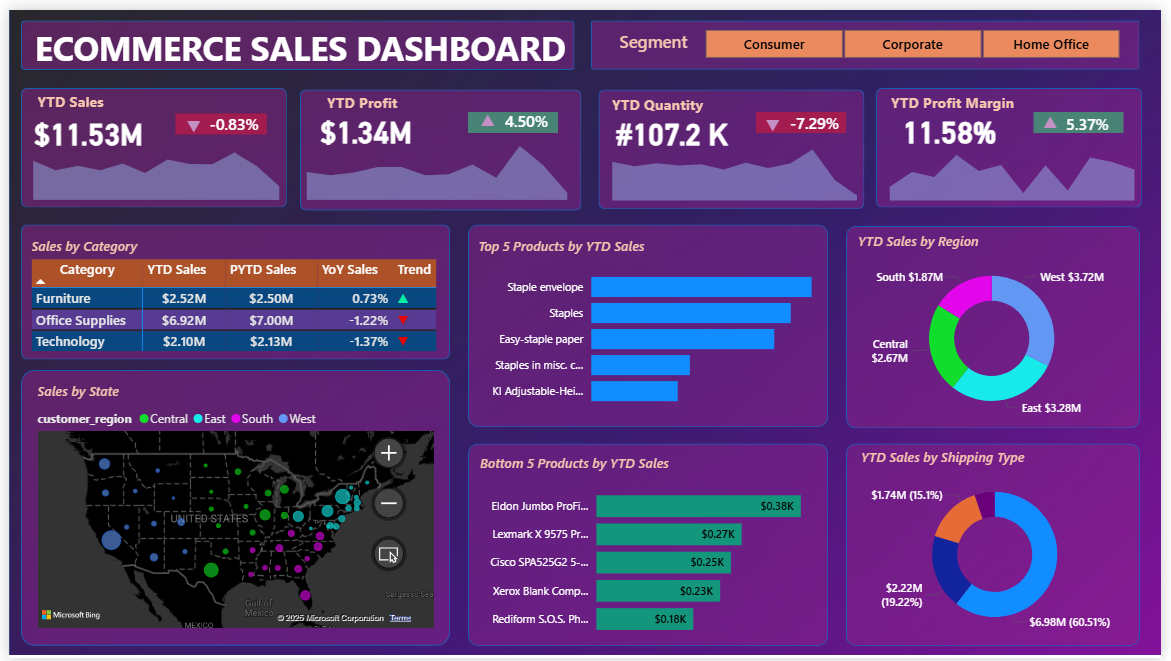

The dashboard page shown, as its layout file describes it:
{"tool":"powerbi","page":{"name":"Page 1","canvas":[1280,720],"ordinal":0},"visuals":[{"type":"shape","box":[184.4,115.7,101.6,23.4],"z":0},{"type":"card","fields":{"Values":["ecommerce_data.Sales Icon"]},"box":[123.5,106.3,162.6,46.9],"z":1000},{"type":"shape","box":[14.1,10.9,615,55],"z":2000},{"type":"textbox","box":[14.1,10.9,704.9,98.5],"z":3000},{"type":"shape","box":[14.1,86,295.4,132.9],"z":4000},{"type":"shape","box":[14.1,239.1,476.7,150],"z":5000},{"type":"card","fields":{"Values":["ecommerce_data.YTD Sales"]},"box":[6.3,111,162.6,46.9],"z":6000},{"type":"areaChart","fields":{"Category":["Calendar.Month"],"Y":["Sum(ecommerce_data.sales_per_order)"]},"box":[10.9,134.4,303.2,81.3],"z":7000},{"type":"shape","box":[647.1,10.9,609.6,54.7],"z":8000},{"type":"card","fields":{"Values":["ecommerce_data.YoY Sales"]},"box":[168.8,104.7,162.6,46.9],"z":9000},{"type":"textbox","box":[26.5,85,109.6,35.9],"z":10000},{"type":"shape","box":[509.5,112.5,100,23.4],"z":11000},{"type":"card","fields":{"Values":["ecommerce_data.Profit Icon"]},"box":[450.1,100,162.6,48.5],"z":12000},{"type":"shape","box":[323.5,87.5,312.6,134.4],"z":13000},{"type":"card","fields":{"Values":["ecommerce_data.YTD Profit"]},"box":[315.7,109.4,162.6,46.9],"z":14000},{"type":"areaChart","fields":{"Category":["Calendar.Month"],"Y":["Sum(ecommerce_data.profit_per_order)"]},"box":[315.7,134.4,320.4,81.3],"z":15000},{"type":"textbox","box":[347.6,86.2,109.6,35.9],"z":16000},{"type":"card","fields":{"Values":["ecommerce_data.YoY Profit"]},"box":[490.8,93.8,168.8,64.1],"z":17000},{"type":"shape","box":[829.9,114.1,100,23.4],"z":18000},{"type":"card","fields":{"Values":["ecommerce_data.Qty Icon"]},"box":[767.4,104.7,162.6,48.5],"z":19000},{"type":"shape","box":[654.9,87.5,295.4,132.9],"z":20000},{"type":"card","fields":{"Values":["ecommerce_data.YTD Concatenated QTY"]},"box":[654.9,111,162.6,46.9],"z":21000},{"type":"areaChart","fields":{"Category":["Calendar.Month"],"Y":["Sum(ecommerce_data.order_quantity)"]},"box":[654.9,139.1,301.7,78.1],"z":22000},{"type":"textbox","box":[665.8,87.5,123.5,35.9],"z":23000},{"type":"card","fields":{"Values":["ecommerce_data.YoY Qty"]},"box":[812.8,104.7,162.6,45.3],"z":24000},{"type":"shape","box":[1138,113.7,100,23.4],"z":25000},{"type":"card","fields":{"Values":["ecommerce_data.Profit Margin Icon"]},"box":[1075.3,101.6,162.6,48.5],"z":26000},{"type":"shape","box":[962.8,86,295.4,132.9],"z":27000},{"type":"card","fields":{"Values":["ecommerce_data.YTD Profit Margin"]},"box":[962.3,109.9,165.7,46.9],"z":28000},{"type":"areaChart","fields":{"Category":["Calendar.Month"],"Y":["ecommerce_data.Profit Margin"]},"box":[962.8,139.1,301.7,78.1],"z":29000},{"type":"textbox","box":[975.3,86,164.1,37.5],"z":30000},{"type":"card","fields":{"Values":["ecommerce_data.YoY Profit Margin"]},"box":[1114.4,104.7,165.7,46.9],"z":31000},{"type":"shape","box":[14.1,400.1,476.7,306.3],"z":32000},{"type":"pivotTable","title":"Sales by Category","fields":{"Rows":["ecommerce_data.category_name"],"Values":["ecommerce_data.YTD Sales","ecommerce_data.PYTD Sales","ecommerce_data.YoY Sales","ecommerce_data.Sales Icon"]},"box":[20.3,251.6,465.8,148.5],"z":33000},{"type":"shape","box":[929.8,240,326.9,224.9],"z":34000},{"type":"map","title":"Sales by State","fields":{"X":["us_state_long_lat_codes.longitude"],"Y":["us_state_long_lat_codes.latitude"],"Size":["ecommerce_data.YTD Sales"],"Series":["ecommerce_data.customer_region"]},"box":[26.6,412.6,450.1,278.2],"z":35000},{"type":"shape","box":[509.5,239.1,400.1,225.1],"z":36000},{"type":"shape","box":[509.5,481.4,400.1,225.1],"z":37000},{"type":"barChart","title":"Top 5 Products by YTD Sales","fields":{"Category":["ecommerce_data.product_name"],"Y":["ecommerce_data.YTD Sales"]},"box":[517.3,251.6,392.3,200.1],"z":38000},{"type":"barChart","title":"Bottom 5 Products by YTD Sales","fields":{"Category":["ecommerce_data.product_name"],"Y":["ecommerce_data.YTD Sales"]},"box":[517.8,493.2,406.3,213.5],"z":39000},{"type":"shape","box":[930,481.4,326.7,225.1],"z":40000},{"type":"donutChart","title":"YTD Sales by Region","fields":{"Category":["ecommerce_data.customer_region"],"Y":["ecommerce_data.YTD Sales"]},"box":[937.8,247,306.3,215.7],"z":41000},{"type":"donutChart","title":"YTD Sales by Shipping Type","fields":{"Y":["ecommerce_data.YTD Sales"],"Category":["ecommerce_data.shipping_type"]},"box":[940.9,486.1,306.3,215.7],"z":42000},{"type":"slicer","fields":{"Values":["ecommerce_data.customer_segment"]},"box":[748.7,15.6,509.5,45.3],"z":43000},{"type":"textbox","box":[673.6,17.2,186,43.8],"z":44000}]}

Visuals, with their boxes in screenshot pixels (x1, y1, x2, y2), scaled from the page's 1280x720 canvas onto the 1171x661 screenshot:
shape: rect(169, 106, 262, 128)
card - ecommerce_data.Sales Icon: rect(113, 98, 262, 141)
shape: rect(13, 10, 576, 60)
textbox: rect(13, 10, 658, 100)
shape: rect(13, 79, 283, 201)
shape: rect(13, 220, 449, 357)
card - ecommerce_data.YTD Sales: rect(6, 102, 155, 145)
areaChart - Calendar.Month x Sum(ecommerce_data.sales_per_order): rect(10, 123, 287, 198)
shape: rect(592, 10, 1150, 60)
card - ecommerce_data.YoY Sales: rect(154, 96, 303, 139)
textbox: rect(24, 78, 125, 111)
shape: rect(466, 103, 558, 125)
card - ecommerce_data.Profit Icon: rect(412, 92, 561, 136)
shape: rect(296, 80, 582, 204)
card - ecommerce_data.YTD Profit: rect(289, 100, 438, 143)
areaChart - Calendar.Month x Sum(ecommerce_data.profit_per_order): rect(289, 123, 582, 198)
textbox: rect(318, 79, 418, 112)
card - ecommerce_data.YoY Profit: rect(449, 86, 603, 145)
shape: rect(759, 105, 851, 126)
card - ecommerce_data.Qty Icon: rect(702, 96, 851, 141)
shape: rect(599, 80, 869, 202)
card - ecommerce_data.YTD Concatenated QTY: rect(599, 102, 748, 145)
areaChart - Calendar.Month x Sum(ecommerce_data.order_quantity): rect(599, 128, 875, 199)
textbox: rect(609, 80, 722, 113)
card - ecommerce_data.YoY Qty: rect(744, 96, 892, 138)
shape: rect(1041, 104, 1133, 126)
card - ecommerce_data.Profit Margin Icon: rect(984, 93, 1132, 138)
shape: rect(881, 79, 1151, 201)
card - ecommerce_data.YTD Profit Margin: rect(880, 101, 1032, 144)
areaChart - Calendar.Month x ecommerce_data.Profit Margin: rect(881, 128, 1157, 199)
textbox: rect(892, 79, 1042, 113)
card - ecommerce_data.YoY Profit Margin: rect(1020, 96, 1170, 139)
shape: rect(13, 367, 449, 649)
"Sales by Category" pivotTable: rect(19, 231, 445, 367)
shape: rect(851, 220, 1150, 427)
"Sales by State" map: rect(24, 379, 436, 634)
shape: rect(466, 220, 832, 426)
shape: rect(466, 442, 832, 649)
"Top 5 Products by YTD Sales" barChart: rect(473, 231, 832, 415)
"Bottom 5 Products by YTD Sales" barChart: rect(474, 453, 845, 649)
shape: rect(851, 442, 1150, 649)
"YTD Sales by Region" donutChart: rect(858, 227, 1138, 425)
"YTD Sales by Shipping Type" donutChart: rect(861, 446, 1141, 644)
slicer - ecommerce_data.customer_segment: rect(685, 14, 1151, 56)
textbox: rect(616, 16, 786, 56)
